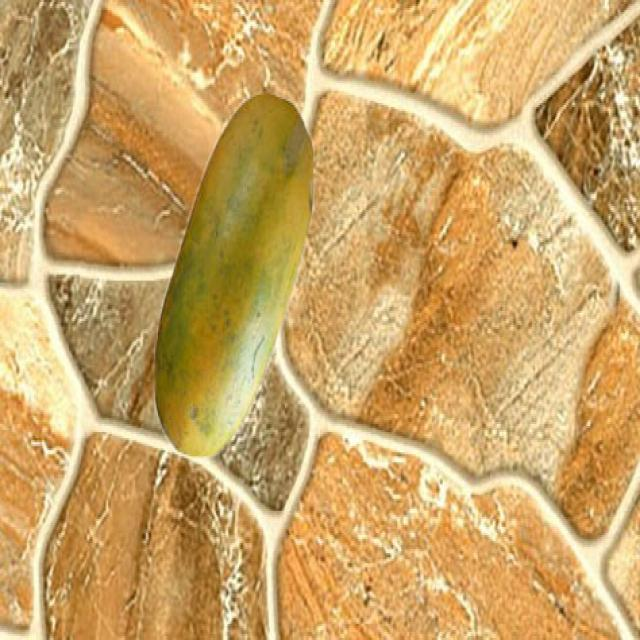Pepaya rippen: (152, 97, 322, 468)
